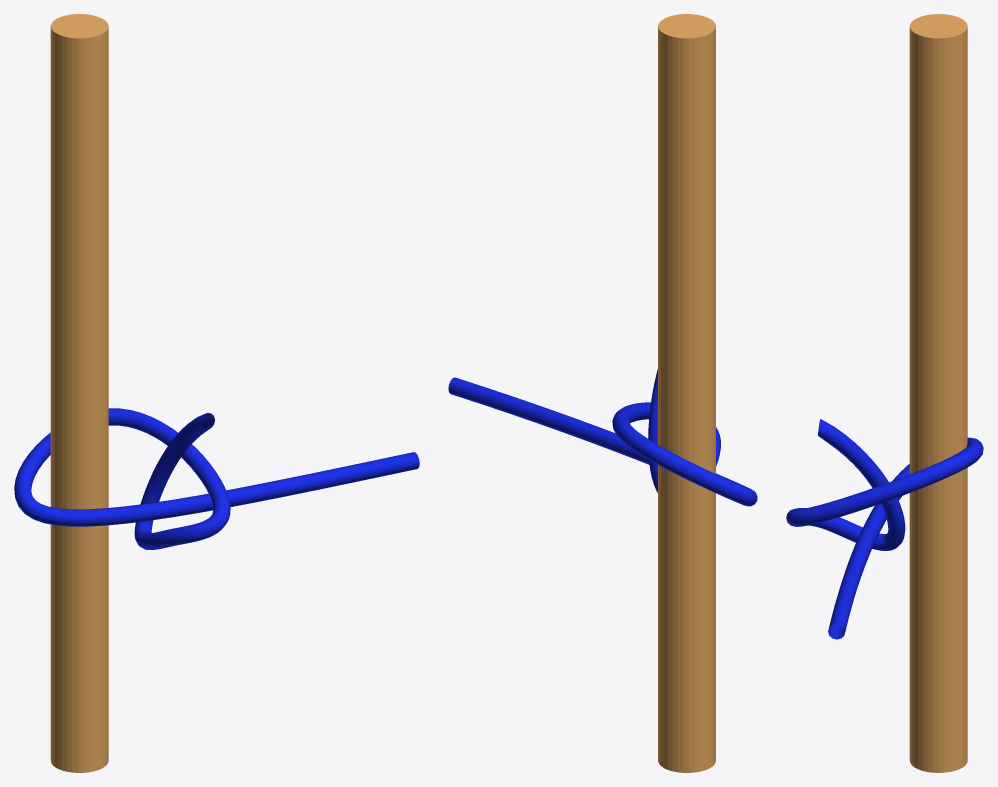
Rendered from TwoHalfHitchState4.dae.
3 renders of one model, left to right at view 1: azimuth 30°, elevation 25°; view 2: azimuth 150°, elevation 25°; view 3: azimuth 270°, elevation 25°, orthographic.
Parts seen in each view (by area): view 1: Cylinder, NurbsCurve.001; view 2: Cylinder, NurbsCurve.001; view 3: Cylinder, NurbsCurve.001.
Boxes of the visible parts, box(x1,y1,x2,y2) form: Cylinder: box(50, 14, 108, 772); NurbsCurve.001: box(14, 408, 419, 549); Cylinder: box(658, 14, 715, 772); NurbsCurve.001: box(448, 369, 757, 506); Cylinder: box(909, 14, 967, 772); NurbsCurve.001: box(786, 419, 983, 639).
Bounding box in the file's own units: 0.6977 × 0.3411 × 1.4.
